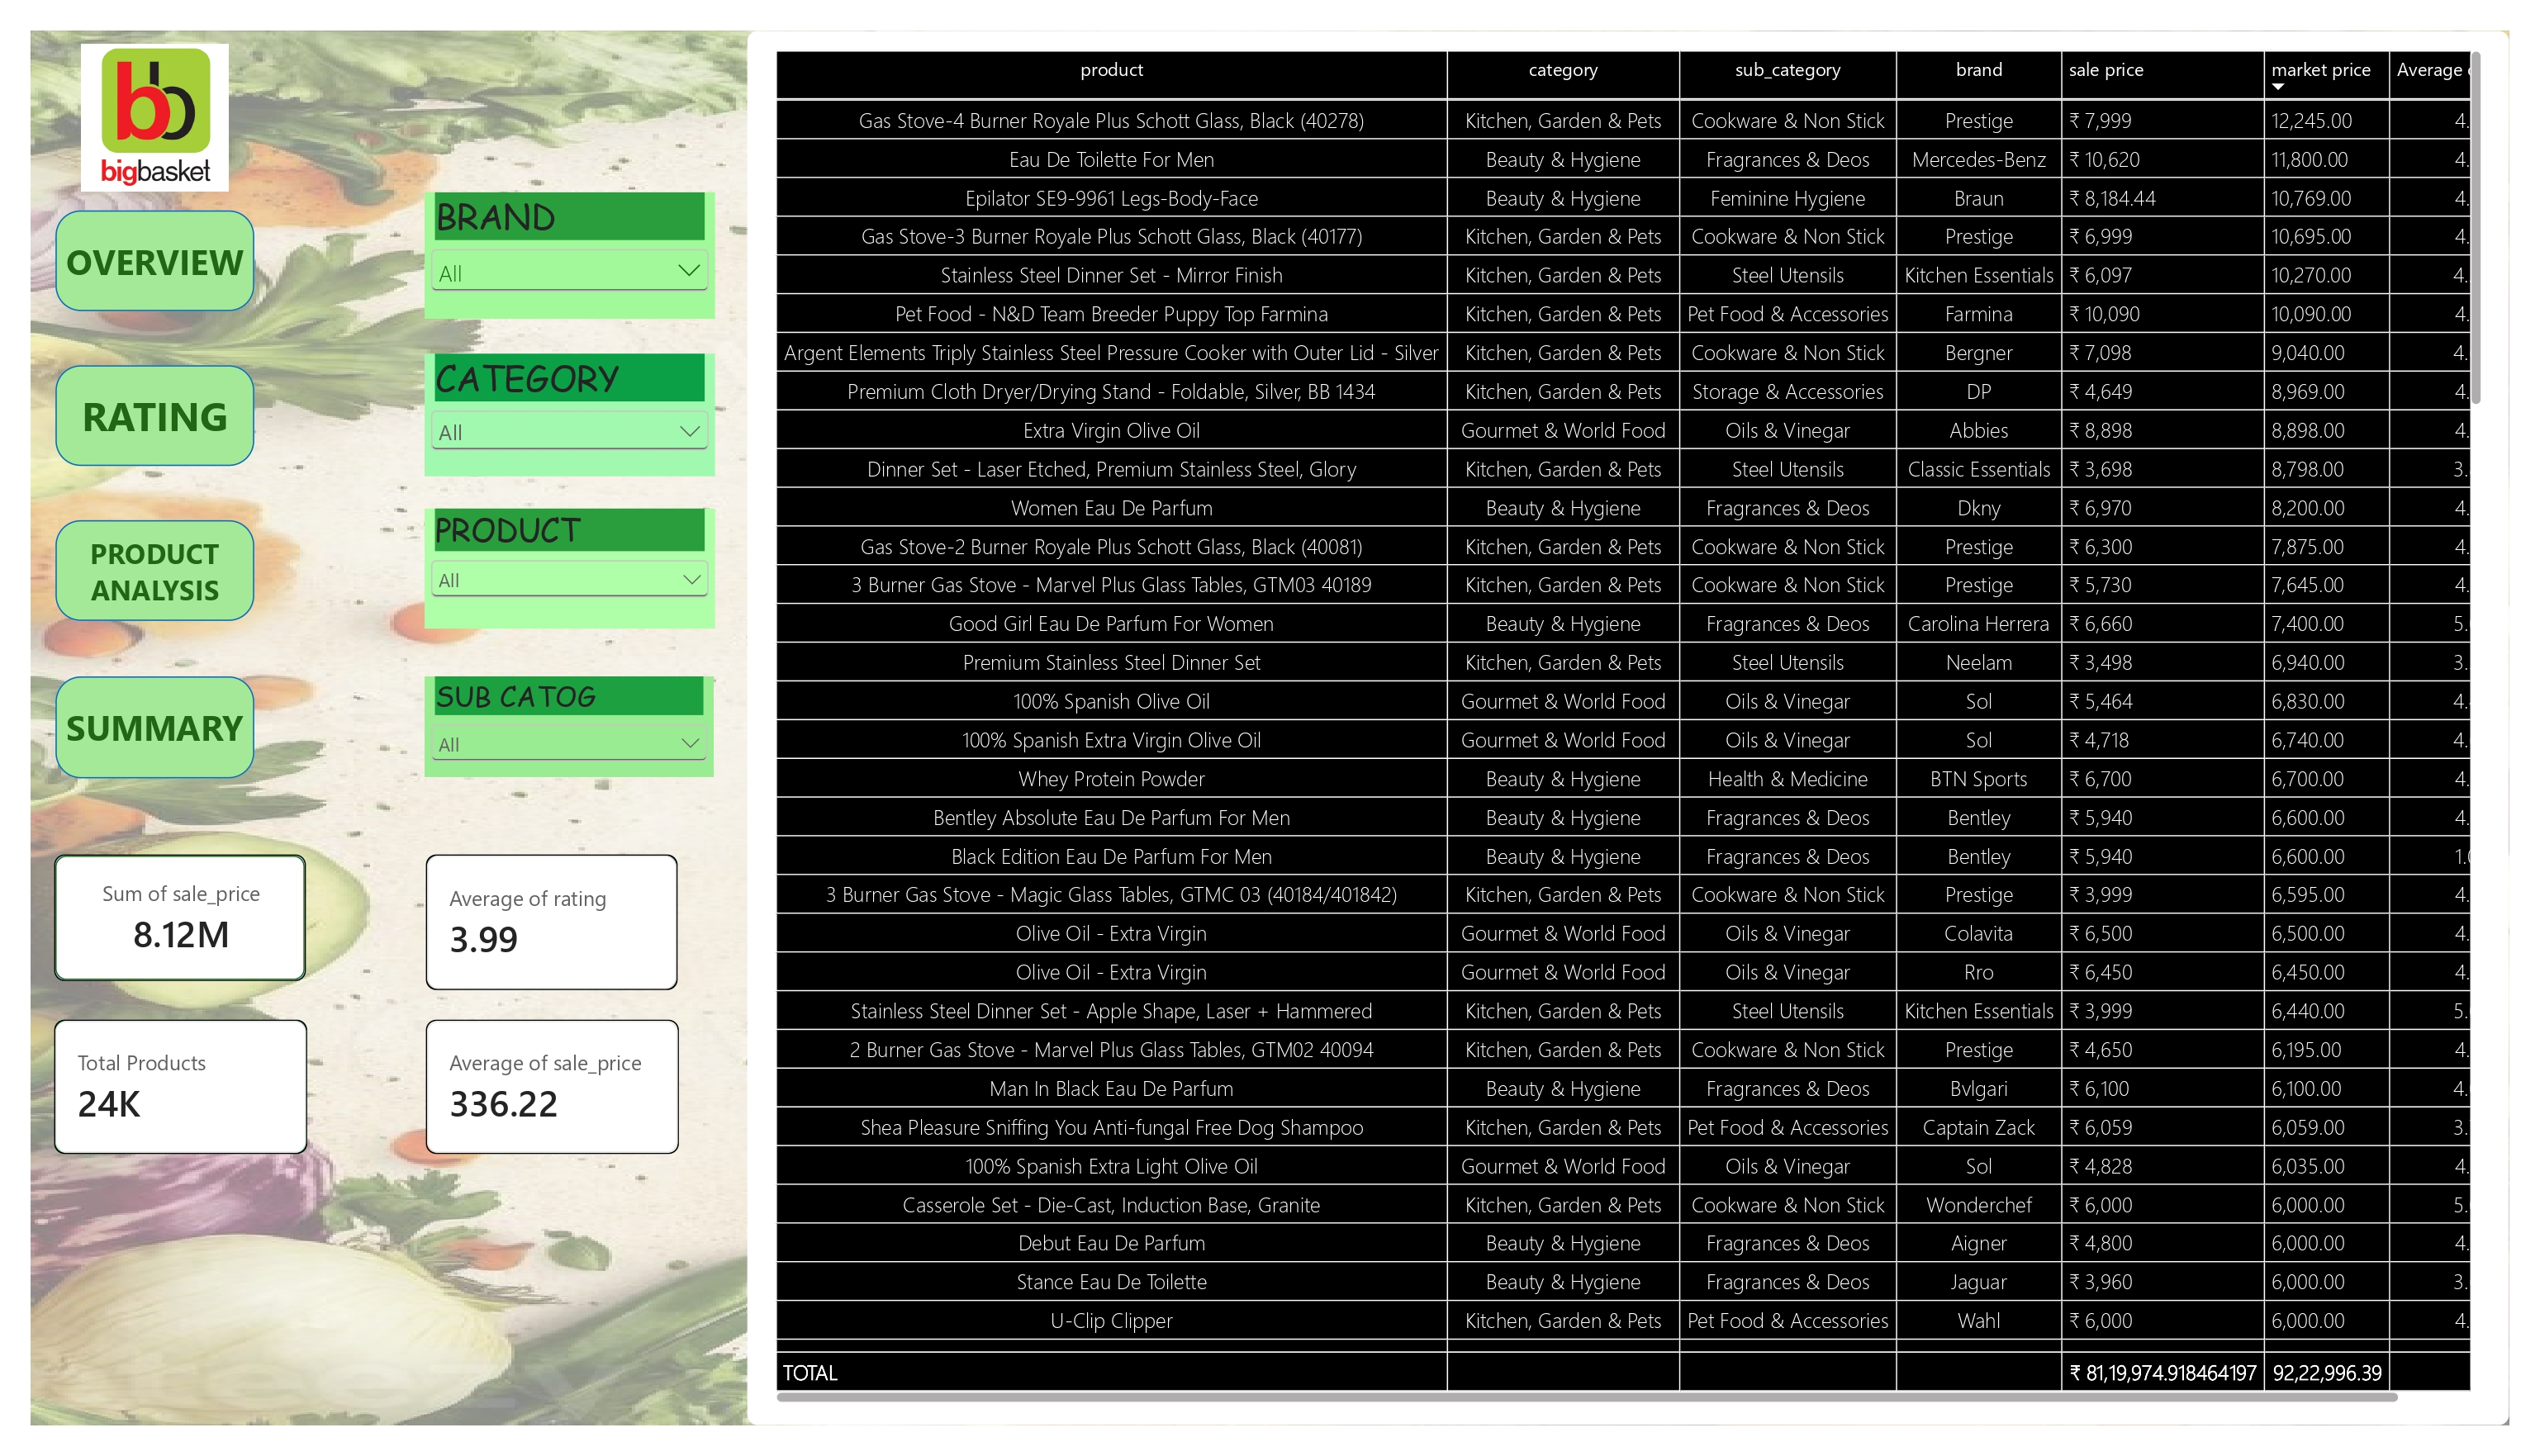

The page's visual inventory and layout, read from the dashboard file:
{"tool":"powerbi","page":{"name":"PRODUCT ANALYSIS ","canvas":[1920,1080],"ordinal":2},"visuals":[{"type":"image","box":[0,0,1919.8,1080],"z":0},{"type":"shape","box":[18.6,138.6,154.3,78.6],"z":1000},{"type":"shape","box":[18.6,258.6,154.3,78.6],"z":2000},{"type":"shape","box":[18.6,378.6,154.3,78.6],"z":3000},{"type":"shape","box":[18.6,500,154.3,78.6],"z":4000},{"type":"image","box":[8.6,10,174.3,114.3],"z":5000},{"type":"tableEx","fields":{"Values":["Sheet1.product","Sheet1.category","Sheet1.sub_category","Sheet1.brand","Sum(Sheet1.sale_price)","Sum(Sheet1.market_price)","Avg(Sheet1.rating)"]},"box":[555,0,1365,1080],"z":6000},{"type":"slicer","fields":{"Values":["Sheet1.brand"]},"box":[305,125,225,97.5],"z":7000},{"type":"slicer","fields":{"Values":["Sheet1.category"]},"box":[305,250,225,95],"z":8000},{"type":"slicer","fields":{"Values":["Sheet1.product"]},"box":[305,370,225,92.5],"z":9000},{"type":"cardVisual","fields":{"Data":["Sheet1.Total Products"]},"box":[18,766,196,104],"z":10000},{"type":"cardVisual","fields":{"Data":["Avg(Sheet1.rating)"]},"box":[306,638,195,105],"z":11000},{"type":"cardVisual","fields":{"Data":["Avg(Sheet1.sale_price)"]},"box":[306,766,196,104],"z":12000},{"type":"cardVisual","fields":{"Data":["Sum(Sheet1.sale_price)"]},"box":[18,638,195,97.5],"z":13000},{"type":"slicer","fields":{"Values":["Sheet1.sub_category"]},"box":[305,500,224,78],"z":14000}]}

Visuals, with their boxes on the page's 1920x1080 design canvas (x1, y1, x2, y2). These are canvas units, not pixel positions in the 2540x1456 screenshot, which may show the page scaled, cropped or inside an application window:
image: l=0, t=0, r=1920, b=1080
shape: l=19, t=139, r=173, b=217
shape: l=19, t=259, r=173, b=337
shape: l=19, t=379, r=173, b=457
shape: l=19, t=500, r=173, b=579
image: l=9, t=10, r=183, b=124
tableEx - Sheet1.product x Sheet1.category: l=555, t=0, r=1920, b=1080
slicer - Sheet1.brand: l=305, t=125, r=530, b=222
slicer - Sheet1.category: l=305, t=250, r=530, b=345
slicer - Sheet1.product: l=305, t=370, r=530, b=462
cardVisual - Sheet1.Total Products: l=18, t=766, r=214, b=870
cardVisual - Avg(Sheet1.rating): l=306, t=638, r=501, b=743
cardVisual - Avg(Sheet1.sale_price): l=306, t=766, r=502, b=870
cardVisual - Sum(Sheet1.sale_price): l=18, t=638, r=213, b=736
slicer - Sheet1.sub_category: l=305, t=500, r=529, b=578
